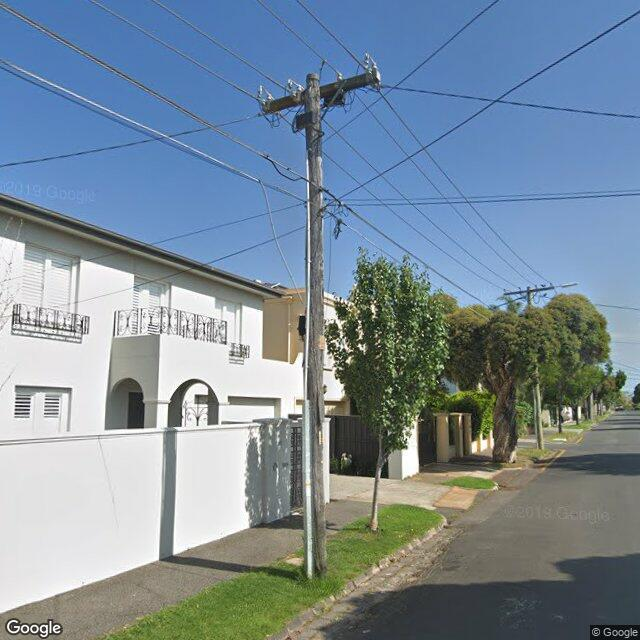crossarm: (256, 51, 383, 127), (502, 282, 554, 296)
streetlight: (556, 282, 580, 288)
timber-pole: (305, 71, 329, 574), (526, 286, 544, 450)
